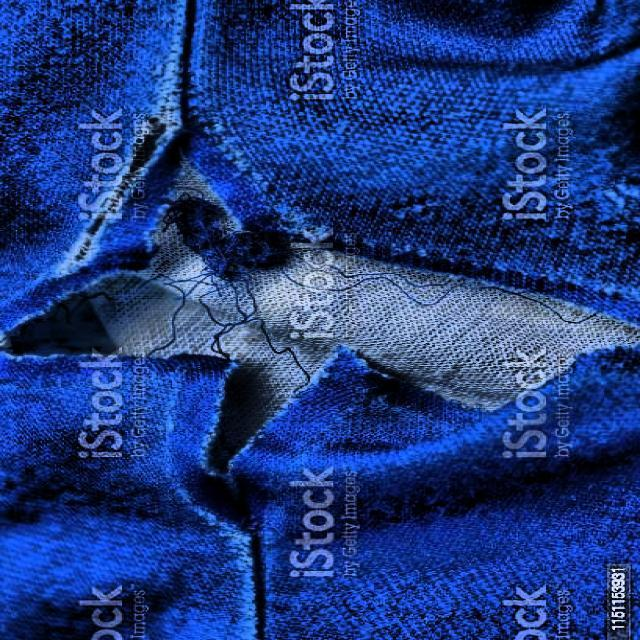cut: (5, 104, 640, 564)
